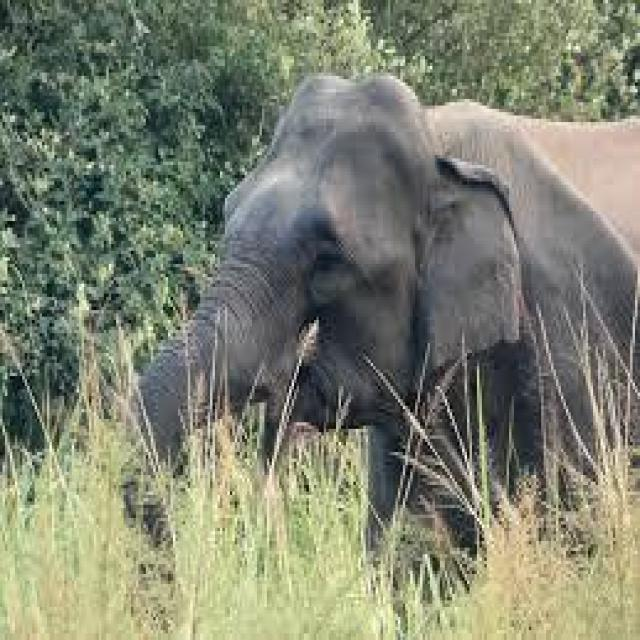Elephant: (118, 66, 638, 558)
